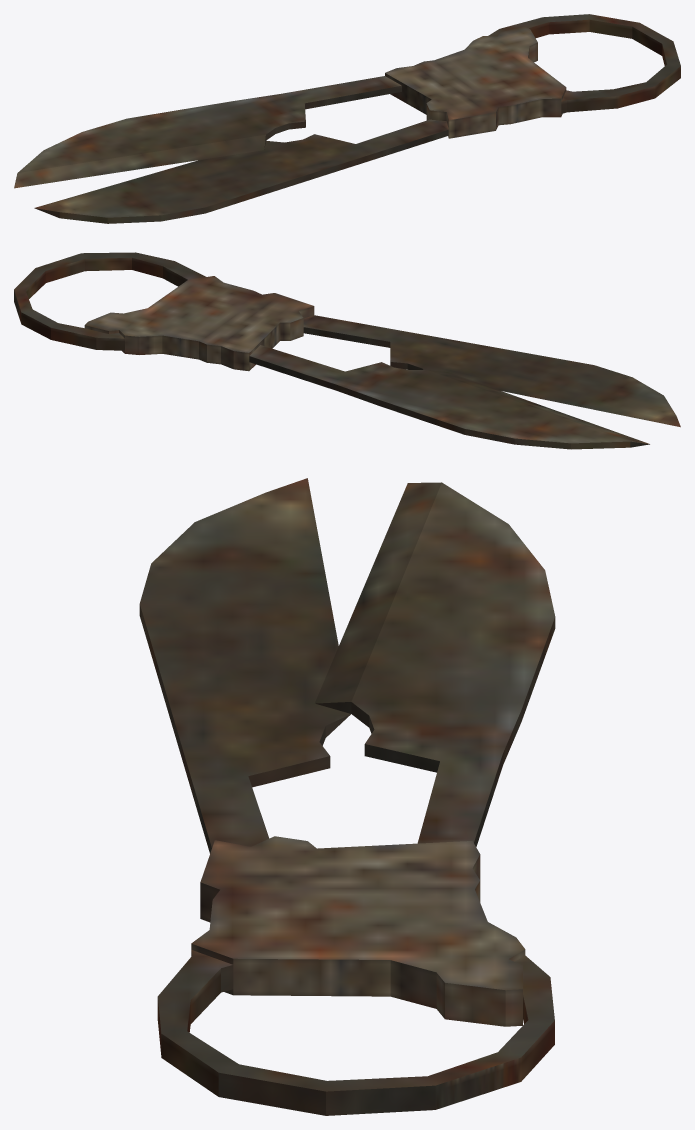
File: misc_tool_mx_2.obj
3 renders of one model, top to bottom at view 1: azimuth 30°, elevation 25°; view 2: azimuth 150°, elevation 25°; view 3: azimuth 270°, elevation 25°, orthographic. The views are drawn at different scales.
Visible parts, largest first — view 1: misc_tool_mx_2; view 2: misc_tool_mx_2; view 3: misc_tool_mx_2.
Part boxes in pixels (x1,y1,x2,y2): misc_tool_mx_2: (14,14,680,223); misc_tool_mx_2: (14,252,680,449); misc_tool_mx_2: (139,478,555,1115).
Bounding box in the file's own units: 0.2753 × 0.0075 × 0.0773.
